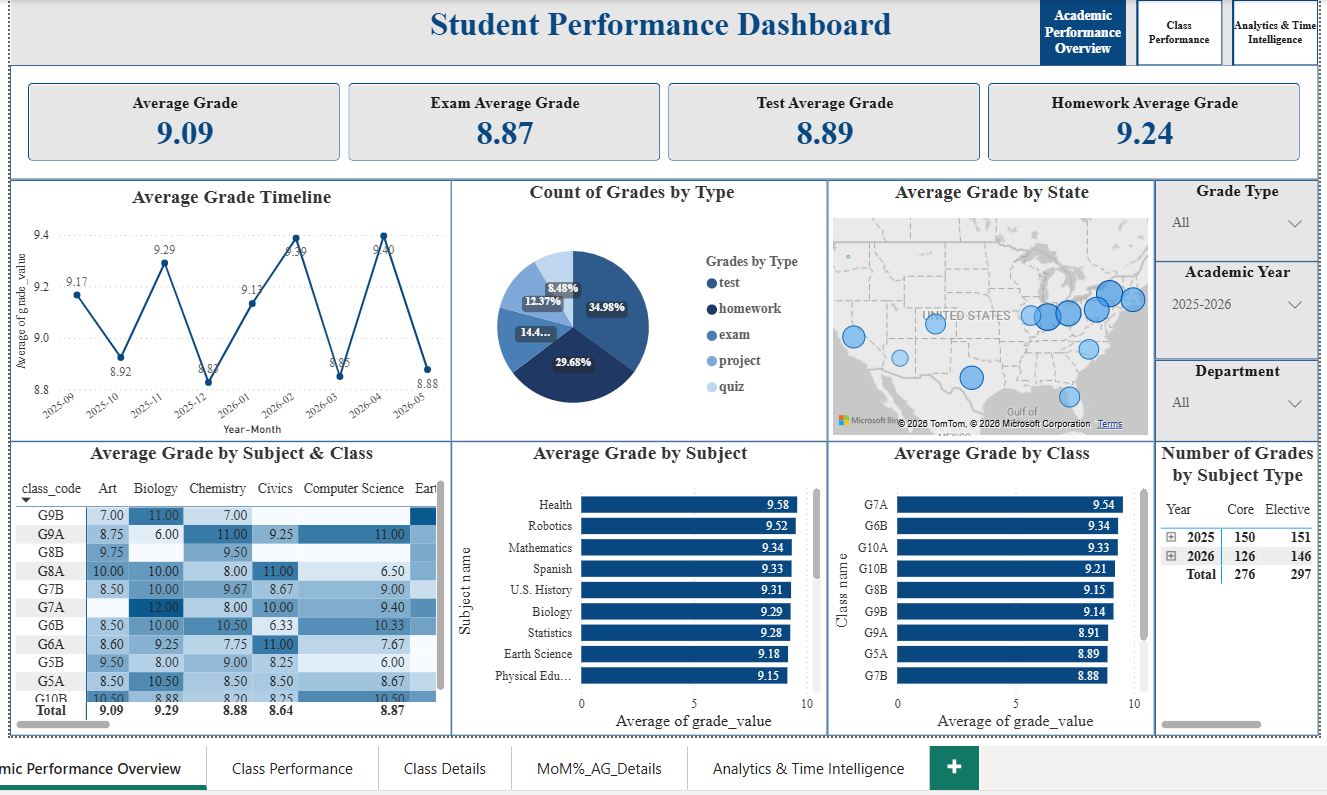

The dashboard page shown, as its layout file describes it:
{"tool":"powerbi","page":{"name":"Academic Performance Overview ","canvas":[1280,720],"ordinal":0},"visuals":[{"type":"clusteredBarChart","title":"Average Grade by Subject","fields":{"Category":["subjects.subject_name"],"Y":["Avg(grades.grade_value)"]},"box":[432,432,368,288],"z":0},{"type":"textbox","box":[1.2,0,1278.8,63.8],"z":1000},{"type":"clusteredBarChart","title":"Average Grade by Class","fields":{"Category":["classes.class_code"],"Y":["Avg(grades.grade_value)"]},"box":[800,432,320,288],"z":2000},{"type":"pieChart","title":"Count of Grades by Type","fields":{"Category":["grades.grade_type"],"Y":["CountNonNull(grades.grade_value)"]},"box":[416,176,384,256],"z":3000},{"type":"lineChart","title":"Average Grade Timeline","fields":{"Category":["Calendar.Year-Month"],"Y":["Avg(grades.grade_value)"]},"box":[0,176,432,256],"z":4000},{"type":"map","title":"Average Grade by State","fields":{"Category":["students.state"],"Size":["Avg(grades.grade_value)"]},"box":[800,176,320,256],"z":5000},{"type":"pivotTable","title":"Average Grade by Subject & Class","fields":{"Rows":["classes.class_code"],"Columns":["subjects.subject_name"],"Values":["Avg(grades.grade_value)"]},"box":[0,432,432,288],"z":6000},{"type":"pivotTable","title":"Number of Grades by Subject Type","fields":{"Rows":["Calendar.Year","Calendar.Month"],"Columns":["subjects.subject_type"],"Values":["CountNonNull(grades.grade_value)"]},"box":[1120,432,160,288],"z":7000},{"type":"cardVisual","fields":{"Data":["_Measures.Average Grade","_Measures.Exam Average Grade","_Measures.Test Average Grade","_Measures.Homework Average Grade"]},"box":[0,64,1280,112],"z":8000},{"type":"slicer","title":"Grade Type","fields":{"Values":["grades.grade_type"]},"box":[1120,176,160,80],"z":9000},{"type":"slicer","title":"Academic Year","fields":{"Values":["periods.academic_year"]},"box":[1120,256,160,96],"z":10000},{"type":"slicer","title":"Department","fields":{"Values":["subjects.department_hint"]},"box":[1120,352,160,80],"z":11000},{"type":"pageNavigator","box":[1008,0,272,64],"z":12000}]}

Visuals, with their boxes on the page's 1280x720 design canvas (x1, y1, x2, y2). These are canvas units, not pixel positions in the 1327x795 screenshot, which may show the page scaled, cropped or inside an application window:
"Average Grade by Subject" clusteredBarChart: BBox(432, 432, 800, 720)
textbox: BBox(1, 0, 1280, 64)
"Average Grade by Class" clusteredBarChart: BBox(800, 432, 1120, 720)
"Count of Grades by Type" pieChart: BBox(416, 176, 800, 432)
"Average Grade Timeline" lineChart: BBox(0, 176, 432, 432)
"Average Grade by State" map: BBox(800, 176, 1120, 432)
"Average Grade by Subject & Class" pivotTable: BBox(0, 432, 432, 720)
"Number of Grades by Subject Type" pivotTable: BBox(1120, 432, 1280, 720)
cardVisual - _Measures.Average Grade x _Measures.Exam Average Grade: BBox(0, 64, 1280, 176)
"Grade Type" slicer: BBox(1120, 176, 1280, 256)
"Academic Year" slicer: BBox(1120, 256, 1280, 352)
"Department" slicer: BBox(1120, 352, 1280, 432)
pageNavigator: BBox(1008, 0, 1280, 64)
